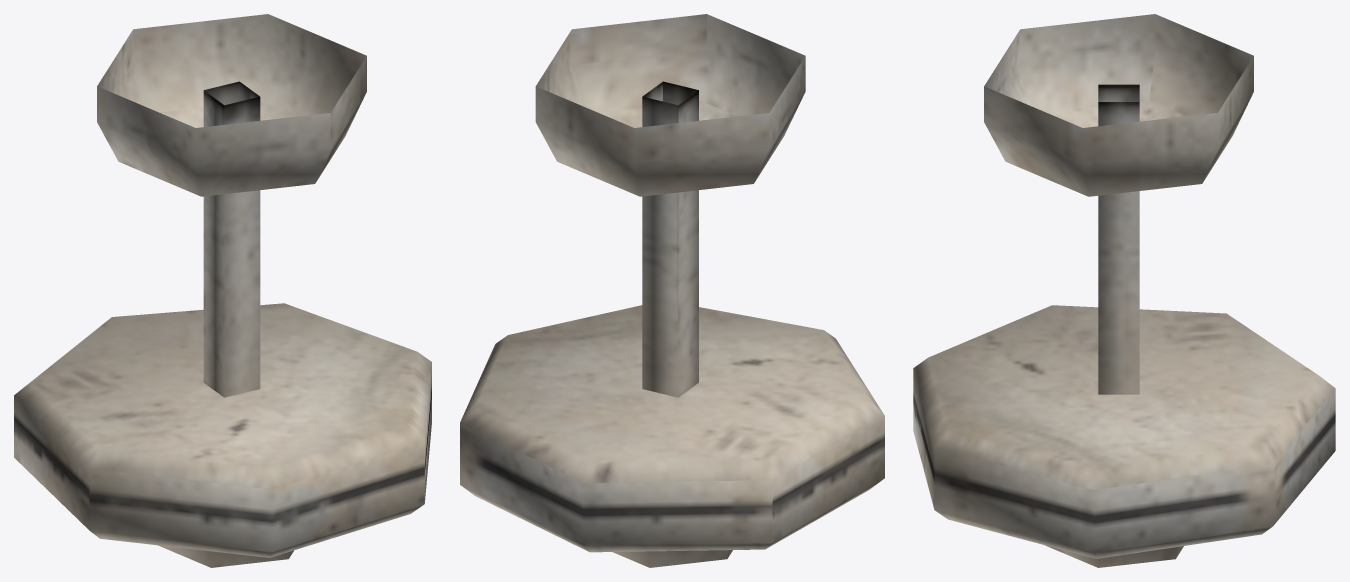
File: Ceiling_Fan-col.glb
3 views of the same model, side by side, from view 1: azimuth 30°, elevation 25°; view 2: azimuth 150°, elevation 25°; view 3: azimuth 270°, elevation 25° (orthographic).
Parts seen in each view (by area): view 1: Ceiling_Fan-col; view 2: Ceiling_Fan-col; view 3: Ceiling_Fan-col.
Boxes of the visible parts, x1,y1,x2,y2 form: Ceiling_Fan-col: [14, 14, 431, 567]; Ceiling_Fan-col: [460, 14, 884, 567]; Ceiling_Fan-col: [913, 14, 1335, 567].
Size of the model in its own units: 0.5679 by 0.6885 by 0.5679.
1 material, 1 textured.
